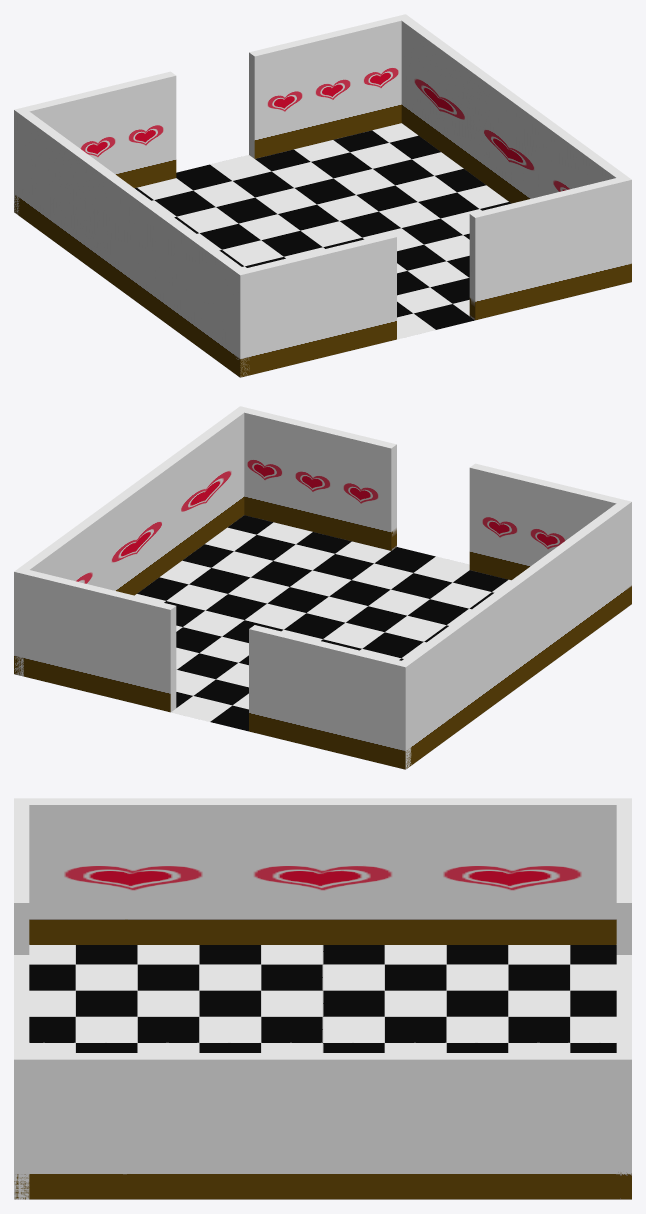
Rendered from Chukanchi.fbx.
The picture shows the model from 3 angles, top to bottom: view 1: azimuth 30°, elevation 25°; view 2: azimuth 150°, elevation 25°; view 3: azimuth 270°, elevation 25°; orthographic projection. The views are drawn at different scales.
Visible parts, largest first — view 1: pPlane1, pCube2, pCube1, pCube6, pCube5, pCube3, pCube4; view 2: pPlane1, pCube2, pCube1, pCube3, pCube4, pCube6, pCube5; view 3: pCube1, pCube2, pPlane1, pCube6, pCube3, pCube5, pCube4.
Boxes of the visible parts, x1,y1,x2,y2 form: pPlane1: (135, 123, 510, 339); pCube2: (14, 107, 249, 377); pCube1: (396, 15, 631, 281); pCube6: (469, 176, 631, 320); pCube5: (234, 233, 396, 377); pCube3: (249, 14, 410, 158); pCube4: (14, 71, 176, 214); pPlane1: (135, 515, 510, 731); pCube2: (396, 499, 631, 769); pCube1: (14, 406, 248, 676); pCube3: (14, 569, 176, 712); pCube4: (249, 625, 411, 769); pCube6: (235, 406, 396, 550); pCube5: (469, 463, 631, 607); pCube1: (14, 1053, 631, 1199); pCube2: (14, 798, 631, 944); pPlane1: (29, 945, 616, 1052); pCube6: (14, 955, 29, 1199); pCube3: (616, 955, 631, 1199); pCube5: (14, 798, 29, 954); pCube4: (616, 798, 631, 954).
Size of the model in its own units: 2000 by 500 by 2000.
Materials: 2 (2 with a texture image).
